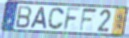2: (96, 9, 113, 33)
A: (29, 6, 47, 30)
B: (15, 5, 33, 29)
C: (47, 7, 65, 31)
F: (78, 8, 99, 33), (62, 7, 83, 32)
